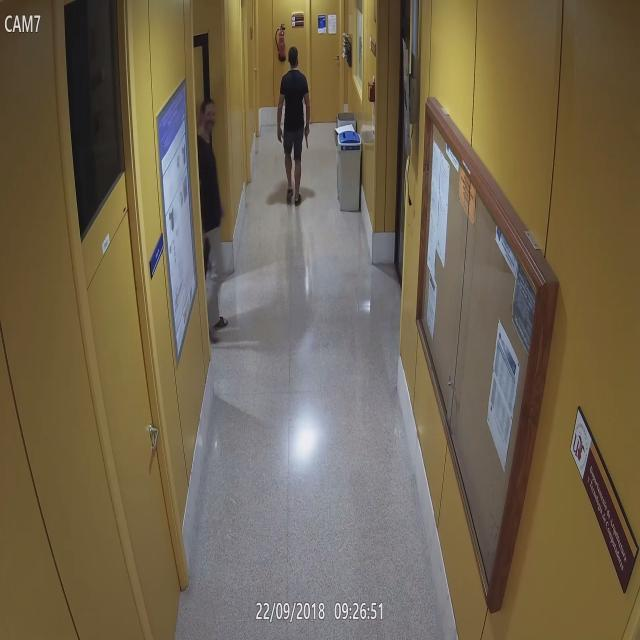pistol: (202, 228, 212, 282), (302, 122, 311, 148)
